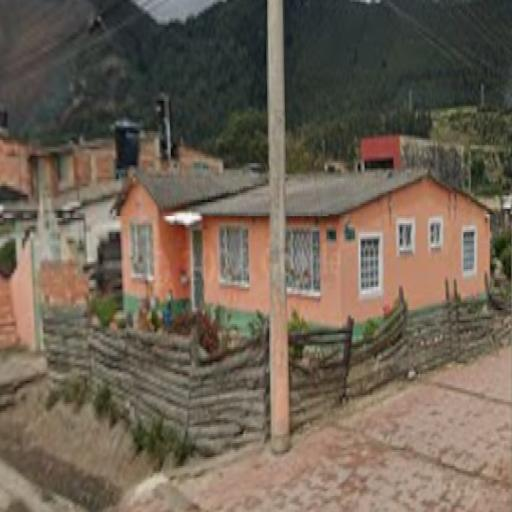poste: (264, 4, 292, 454)
